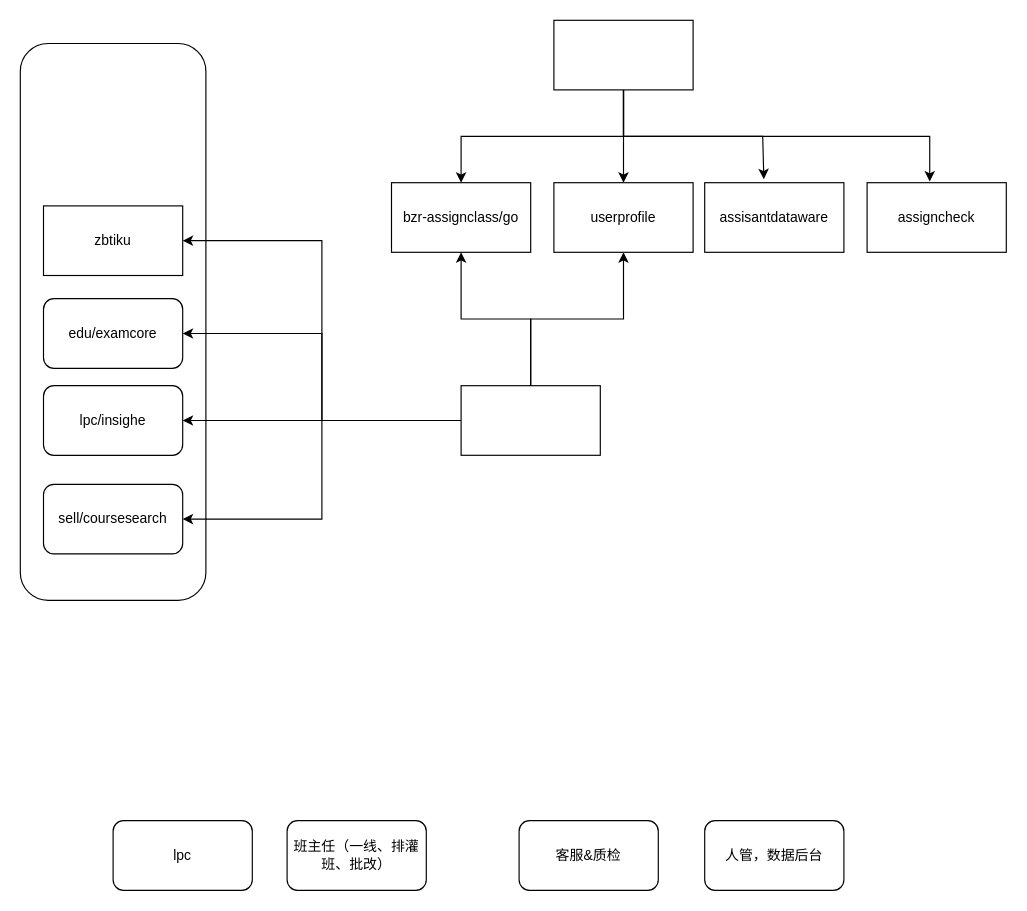
This 1027x911 diagram has some shape labels left out. The shapes that lost their labels are listed below. From the top down, each one's centre as x and y in pixels, then its label:
(623,54): assisantdesk
(530,420): pcassistant
